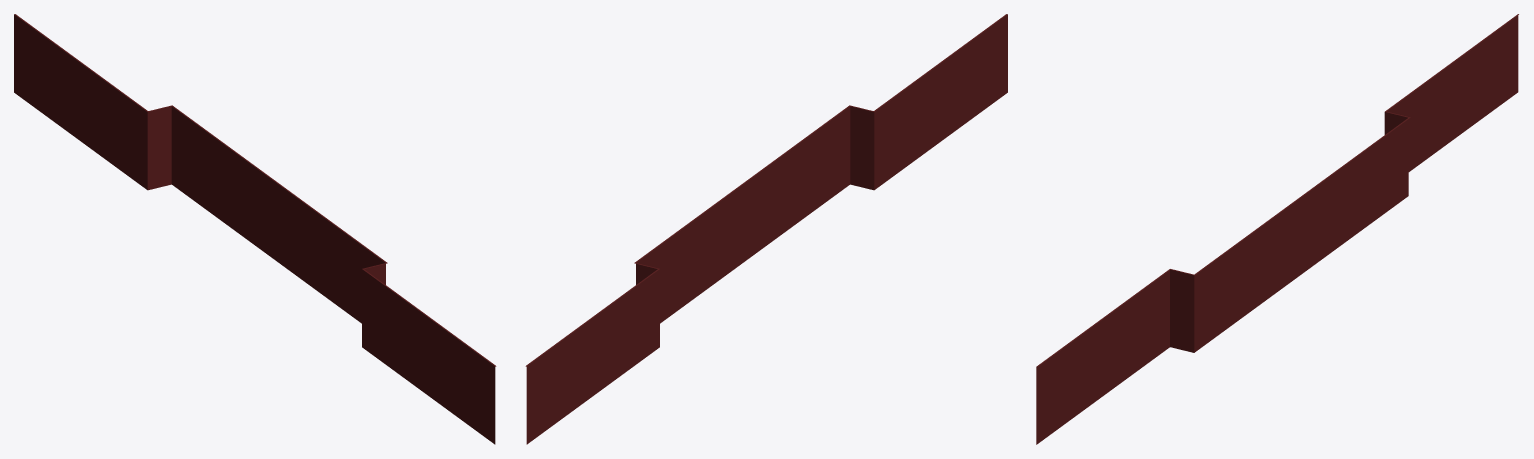
File: p55-wall-front-v1-base.fbx
The picture shows the model from 3 angles, left to right: view 1: azimuth 30°, elevation 25°; view 2: azimuth 150°, elevation 25°; view 3: azimuth 330°, elevation 25°; orthographic projection.
Parts seen in each view (by area): view 1: p55-wall-front-v1-base; view 2: p55-wall-front-v1-base; view 3: p55-wall-front-v1-base.
Part boxes in pixels (x1,y1,x2,y2): p55-wall-front-v1-base: [14, 14, 496, 444]; p55-wall-front-v1-base: [525, 14, 1007, 444]; p55-wall-front-v1-base: [1036, 14, 1518, 444].
Bounding box in the file's own units: 95.01 × 280 × 3118.
